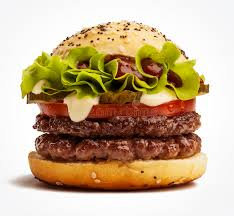hamburger: (20, 21, 210, 188)
